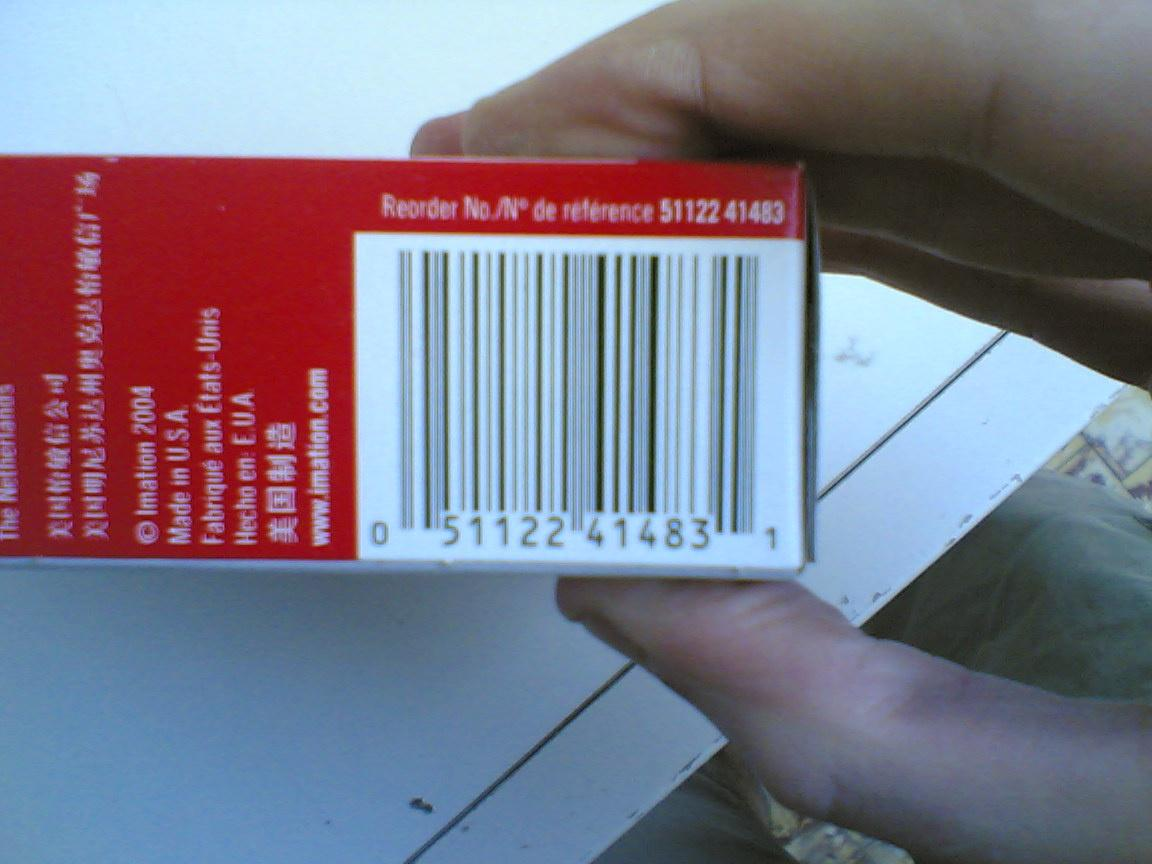Barcode: (359, 235, 794, 557)
